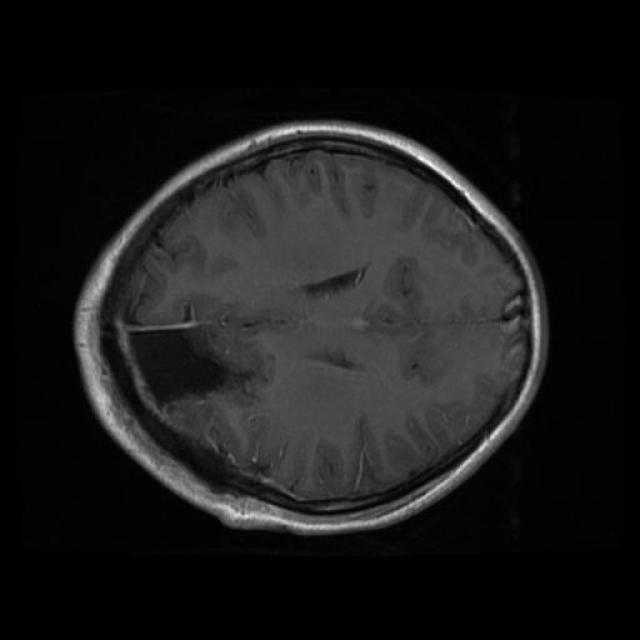Glioma: (131, 326, 250, 401)
